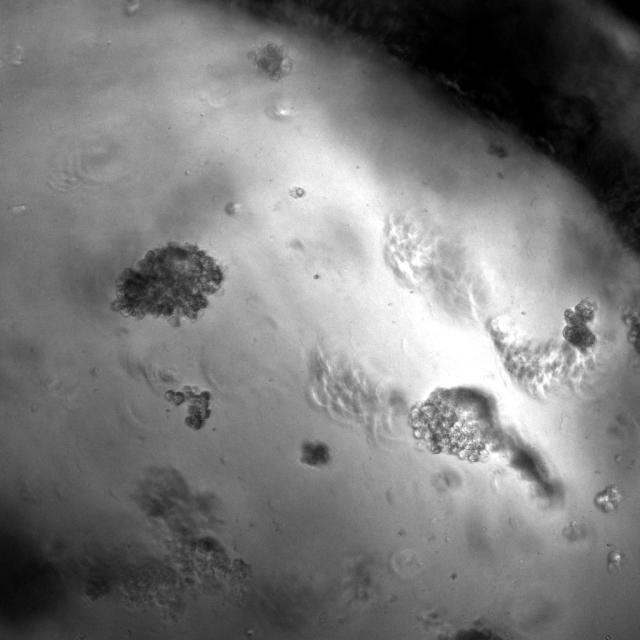organoid: (385, 215, 592, 395), (81, 467, 250, 621), (408, 386, 559, 497), (112, 242, 223, 325), (166, 386, 210, 430), (562, 299, 595, 350), (248, 42, 292, 80), (594, 484, 622, 512), (300, 440, 330, 466), (607, 549, 623, 574)
